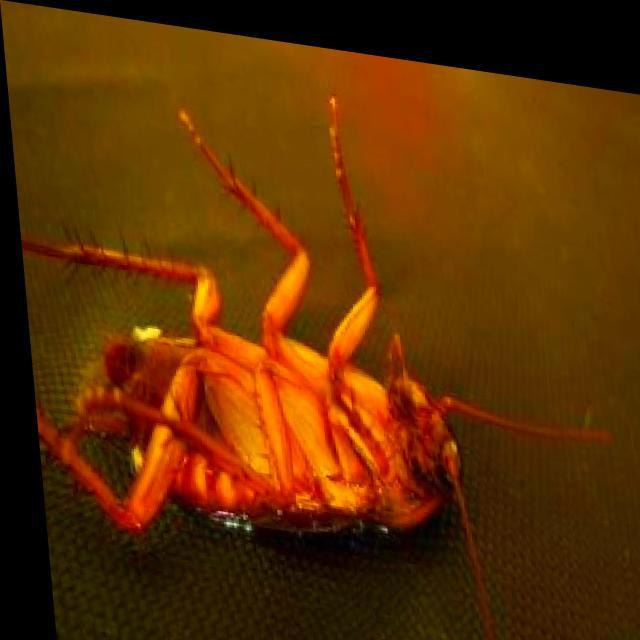cockroach: (0, 130, 583, 602)
